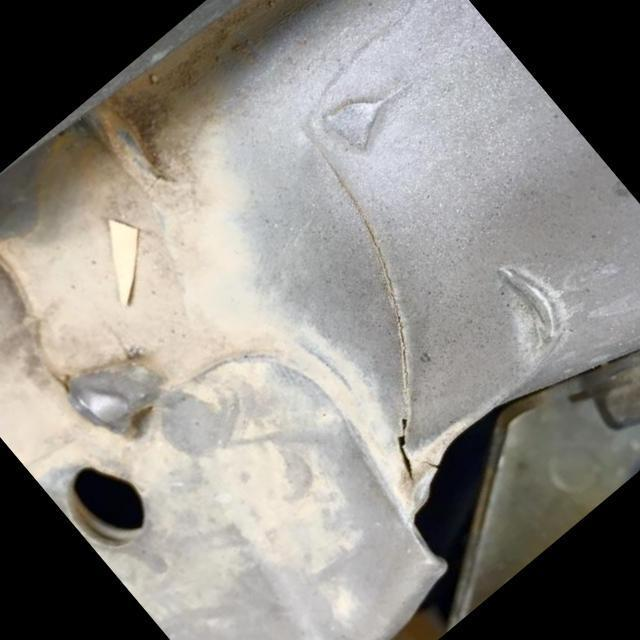defect: (290, 112, 414, 483), (417, 458, 437, 468)
